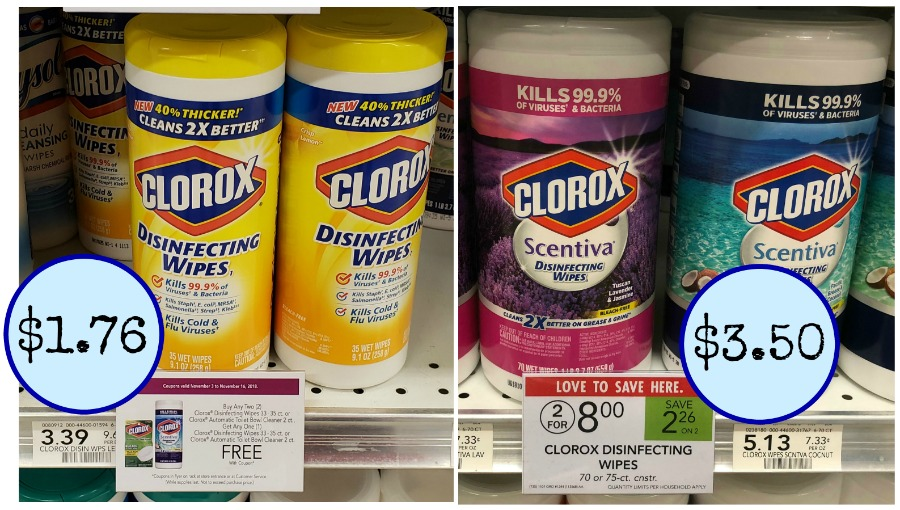Wipes: (661, 5, 892, 414), (462, 5, 675, 410), (275, 4, 448, 392), (122, 6, 284, 396), (56, 6, 138, 262)
